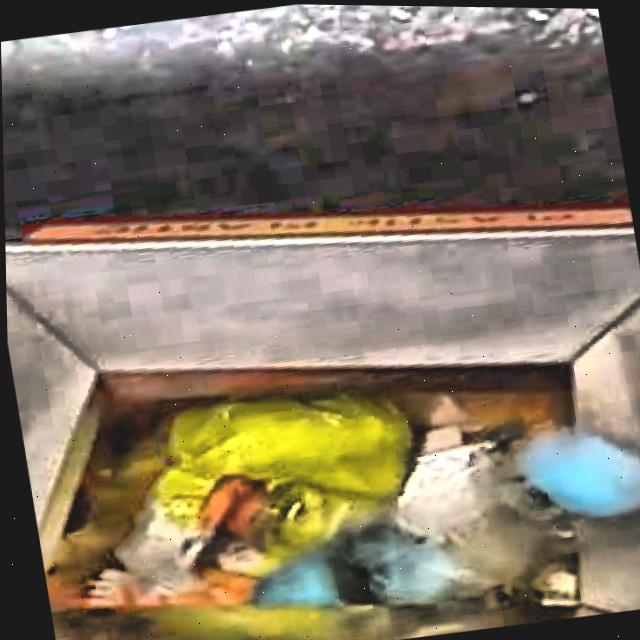plastic: (337, 434, 577, 605)
